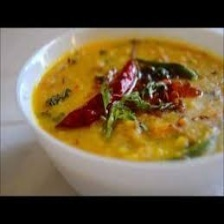dal: (30, 34, 224, 164)
